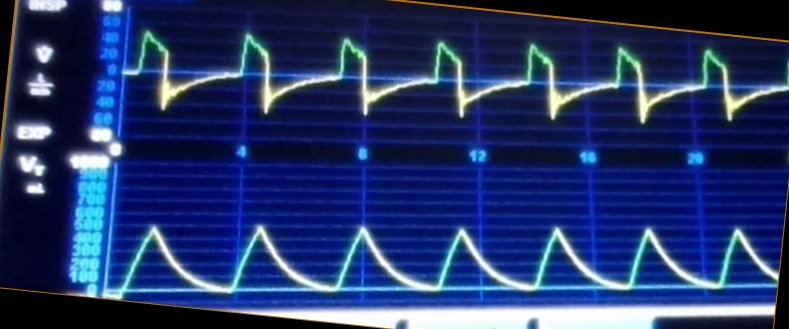Accumulation Flow: (127, 27, 738, 145)
Volume: (113, 199, 775, 300)
